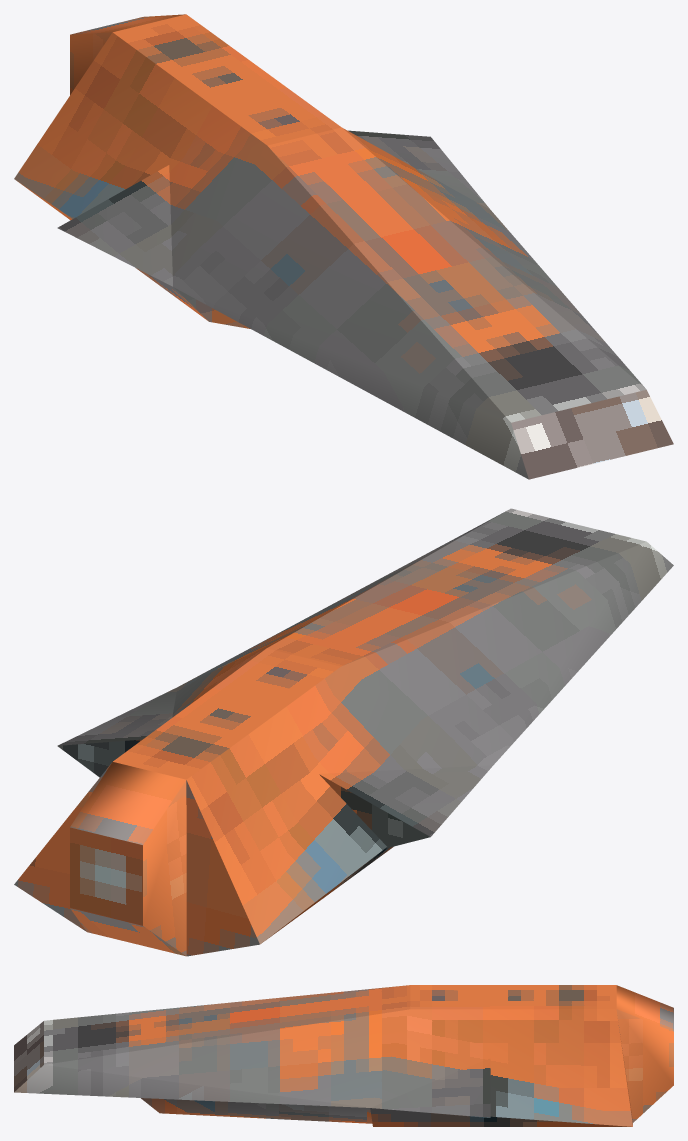
The picture shows the model from 3 angles, top to bottom: view 1: azimuth 30°, elevation 25°; view 2: azimuth 150°, elevation 25°; view 3: azimuth 270°, elevation 25°; orthographic projection. The views are drawn at different scales.
Visible parts, largest first — view 1: Hgn_MinelayerCorv_LOD2; view 2: Hgn_MinelayerCorv_LOD2; view 3: Hgn_MinelayerCorv_LOD2.
Part boxes in pixels (x1,y1,x2,y2): Hgn_MinelayerCorv_LOD2: (14,14,673,479); Hgn_MinelayerCorv_LOD2: (14,508,673,956); Hgn_MinelayerCorv_LOD2: (14,985,673,1126).
Bounding box in the file's own units: 23.46 × 9.87 × 53.82.
